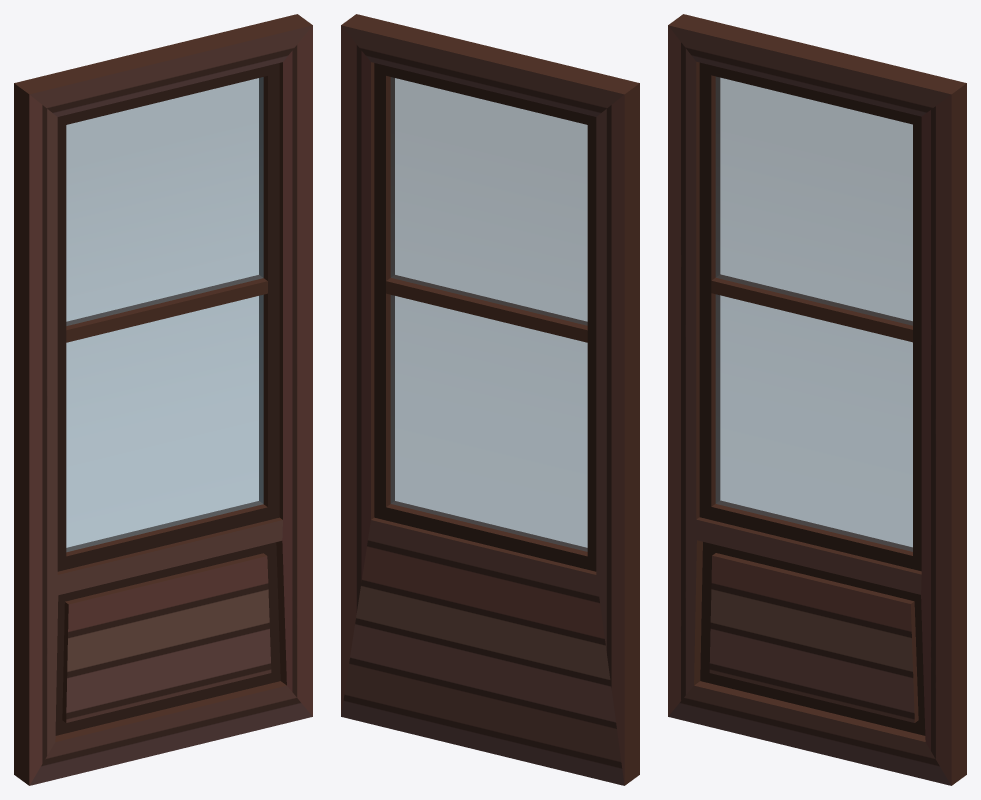
The model's file is Door 8.glb.
The picture shows the model from 3 angles, left to right: view 1: azimuth 30°, elevation 25°; view 2: azimuth 150°, elevation 25°; view 3: azimuth 330°, elevation 25°; orthographic projection.
Parts seen in each view (by area): view 1: Door 8A; view 2: Door 8A; view 3: Door 8A.
Part boxes in pixels (x1,y1,x2,y2): Door 8A: (14, 14, 312, 785); Door 8A: (341, 14, 639, 785); Door 8A: (668, 14, 966, 785).
Size of what is drawn, in the model's own units: 0.9761 by 2.27 by 0.0917.
Materials: 3 (3 with a texture image).
